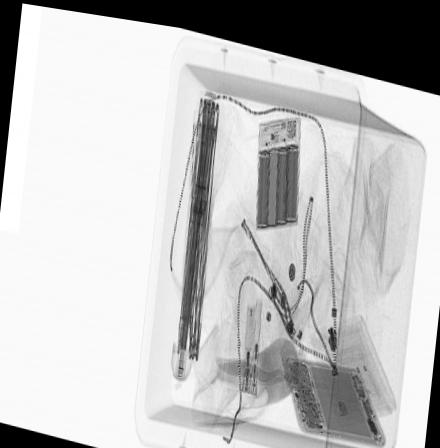Lighter: (242, 289, 262, 388)
